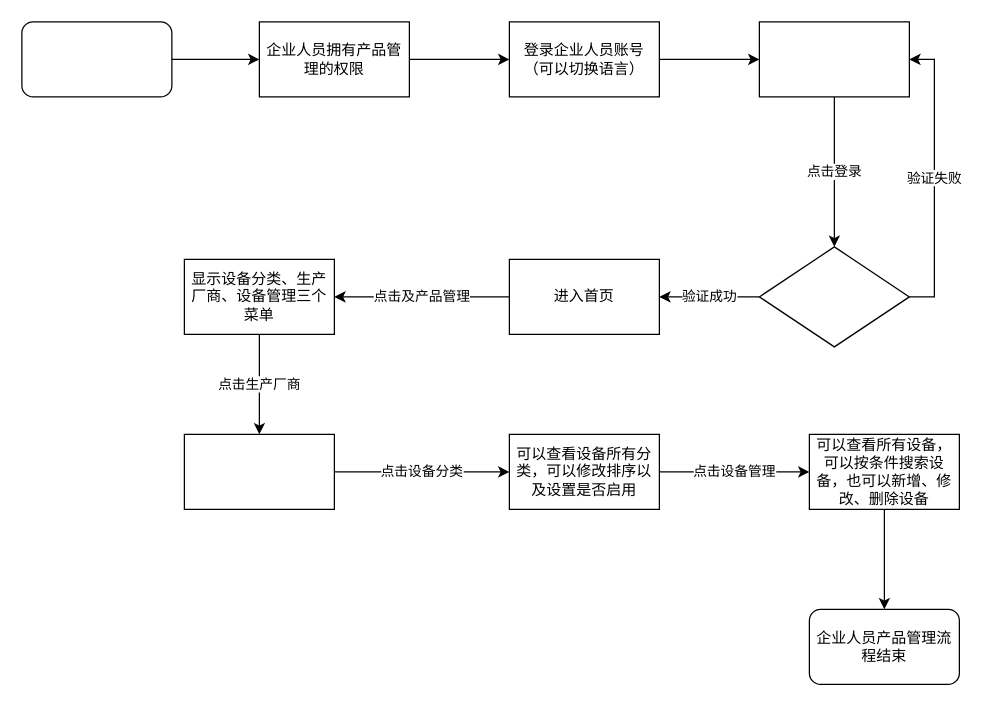
Image size: 984x706. Some labels were removed from this diagram. Here are the shapes that lost their labels. From the top down, the centre of each, then its label:
At pixel 96 59: "企业人员角色".
At pixel 833 59: "输入账号密码及验证码".
At pixel 833 296: "验证登录信息完整".
At pixel 258 471: "可以查看所有的生产厂商。可以修改排序以及设置是否启用".
